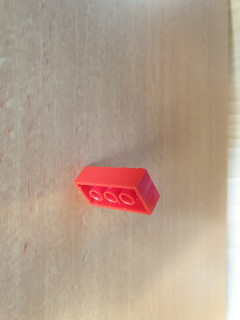2x4 red: (72, 161, 162, 221)
